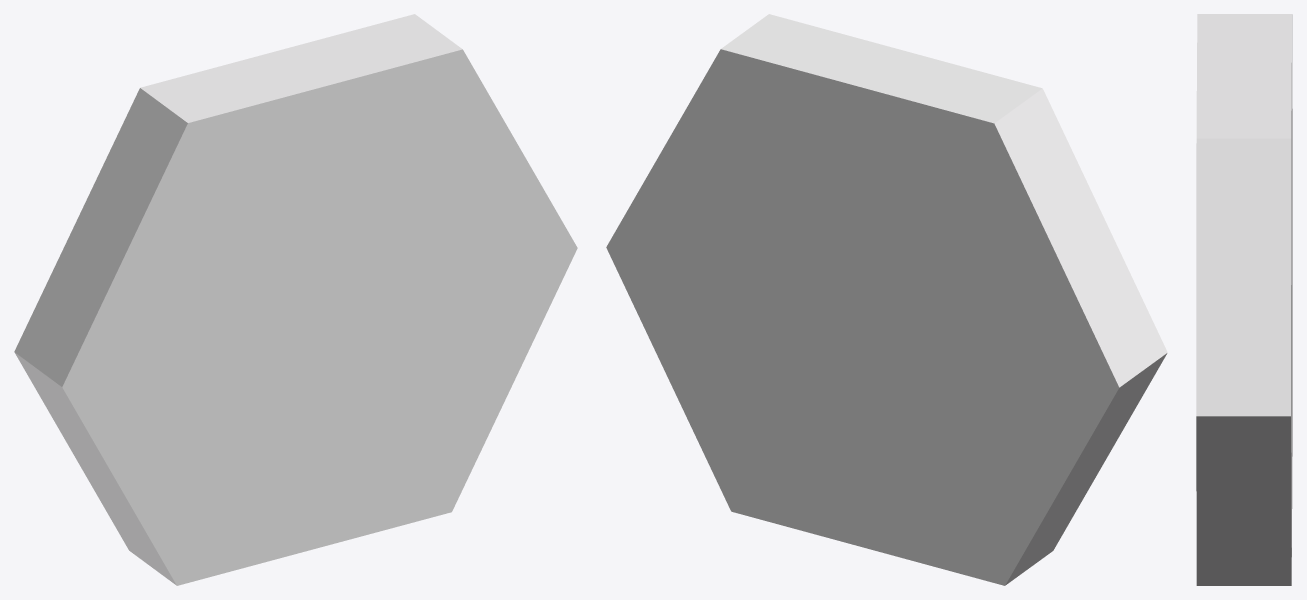
File: banana04.gltf
3 renders of one model, left to right at view 1: azimuth 30°, elevation 25°; view 2: azimuth 150°, elevation 25°; view 3: azimuth 270°, elevation 25°, orthographic.
Visible parts, largest first — view 1: Cylinder; view 2: Cylinder; view 3: Cylinder.
Boxes of the visible parts, <box> form: Cylinder: <box>14,14,577,585</box>; Cylinder: <box>606,14,1167,585</box>; Cylinder: <box>1196,14,1292,585</box>.
Size of the model in its own units: 0.0377 by 0.0327 by 0.00623.
1 material, 1 textured.
